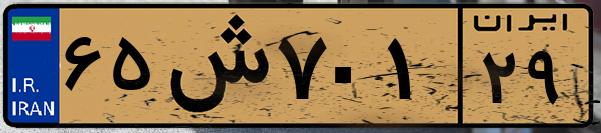0: (330, 28, 385, 110)
1: (385, 28, 445, 110)
2: (475, 38, 525, 113)
5: (110, 28, 158, 98)
6: (57, 26, 110, 100)
7: (270, 28, 330, 110)
9: (525, 38, 570, 115)
ش: (158, 12, 270, 120)
